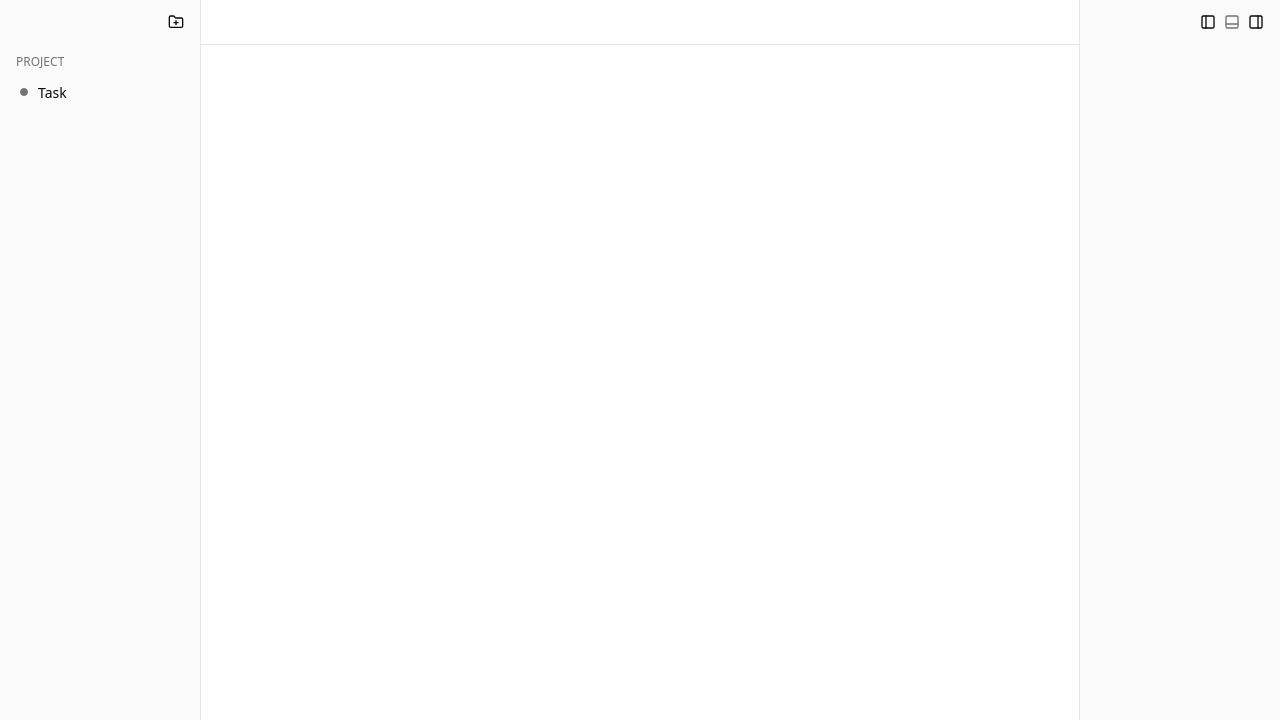
Transcript Markdown › shows HTML as text and keeps links other than web and email inert
This screenshot has width=1280, height=720.
Click the button with class "select".
click(100, 92)  # box [8,76,192,108]
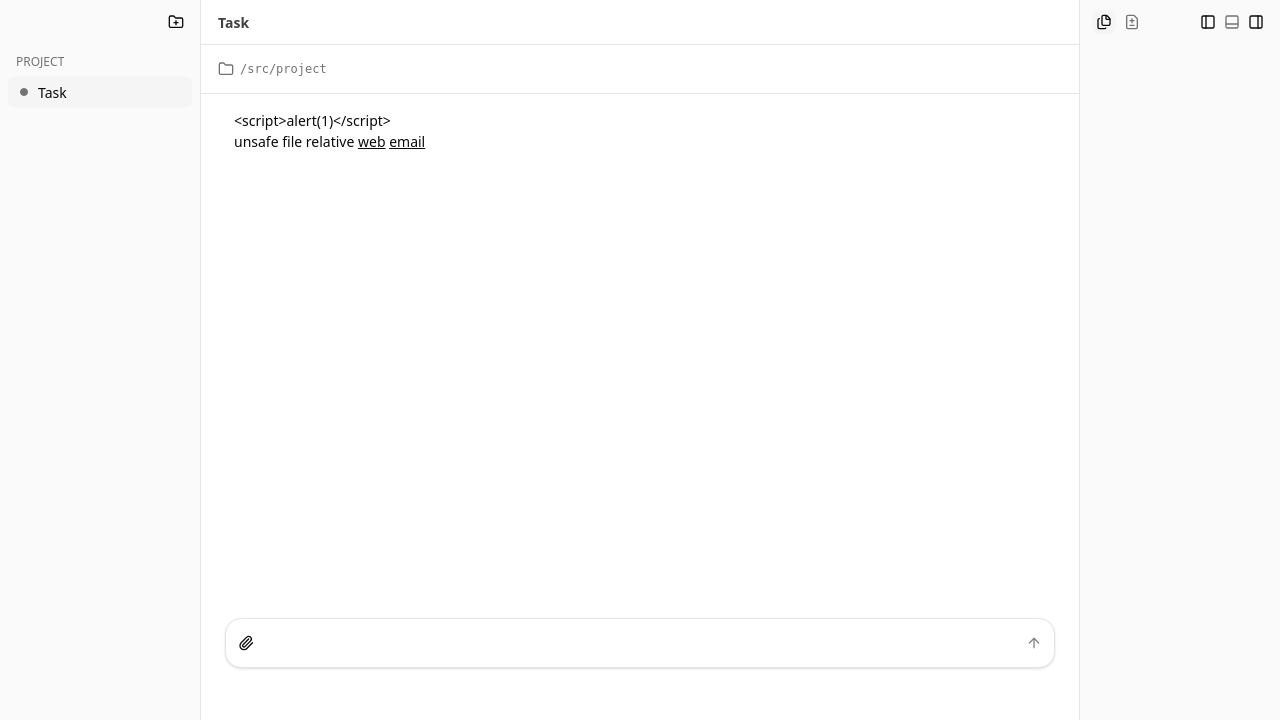
Now the element with class "markdown" shows "<script>alert(1)</script>", box [234,111,391,130]
